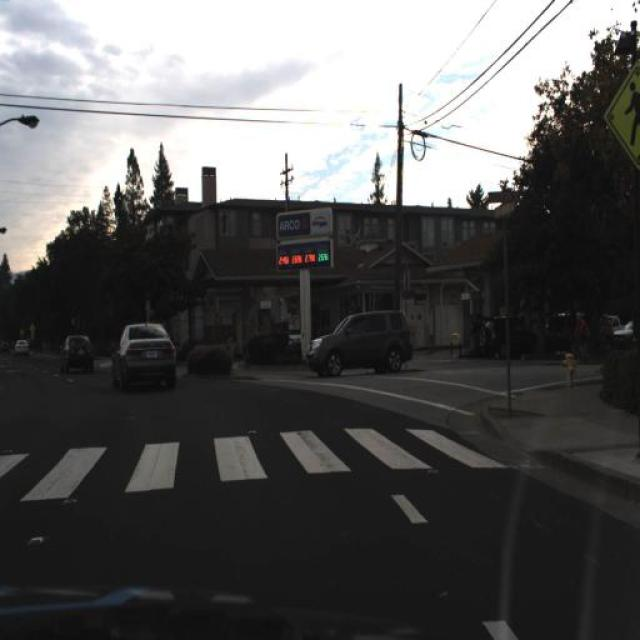car: (304, 309, 414, 379), (110, 320, 181, 395), (54, 326, 100, 382), (476, 315, 530, 356), (61, 332, 97, 378), (12, 332, 32, 359)
